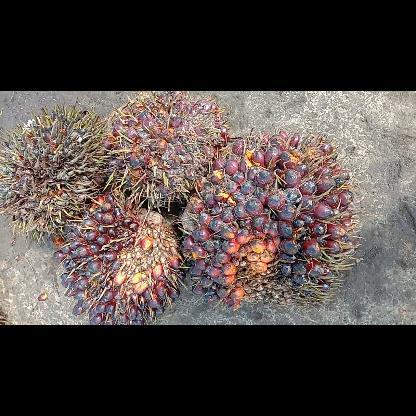Kurang masak: (56, 194, 184, 324), (105, 91, 225, 201)
TBS abnormal: (0, 106, 104, 233)
TBS masak: (180, 130, 352, 309)
